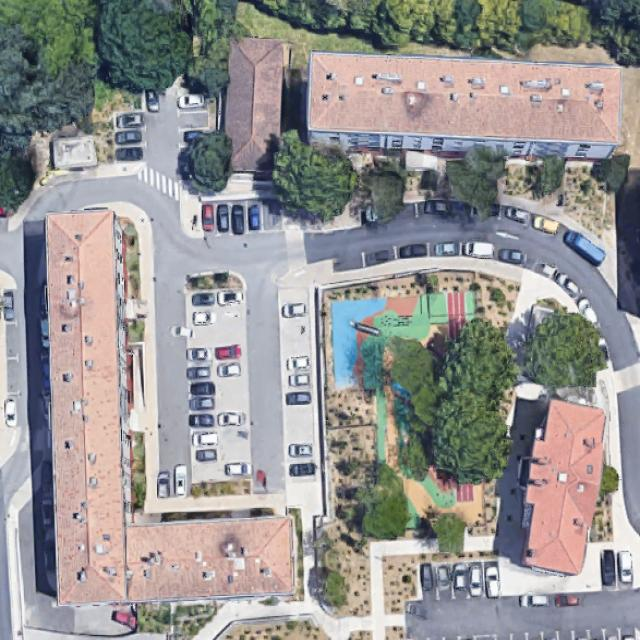immeuble: (42, 210, 134, 602), (304, 51, 623, 162), (518, 399, 602, 573), (127, 517, 297, 600)
maison: (218, 35, 290, 173)
